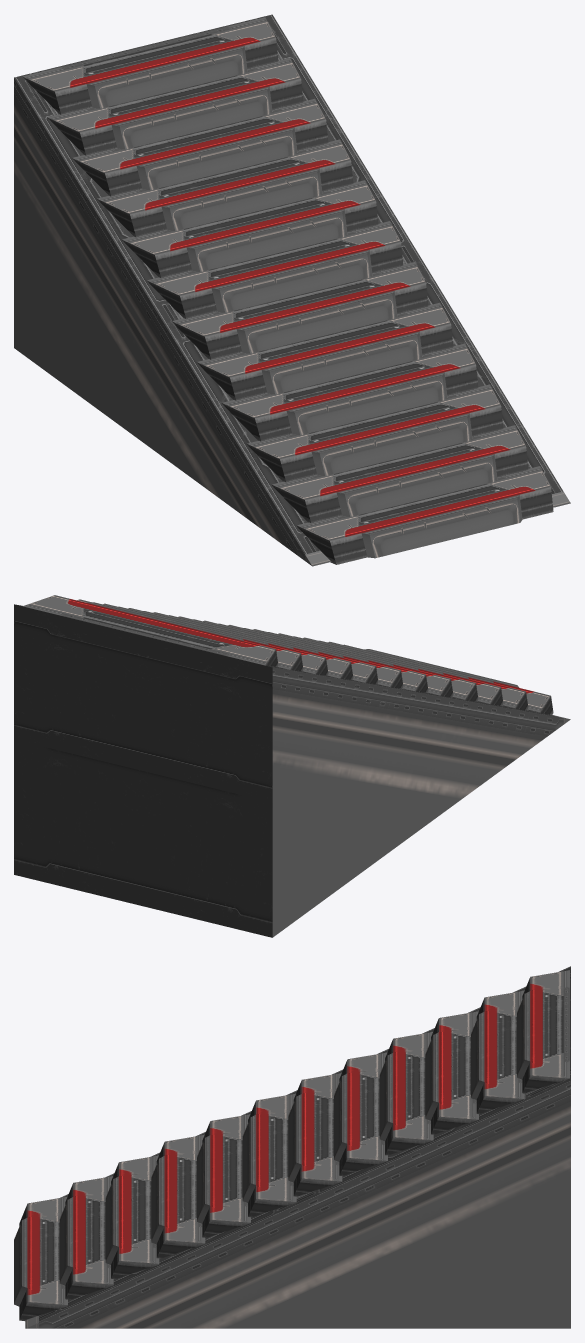
The model's file is Platform_Stairs_4.gltf.
3 views of the same model, one above another, from view 1: azimuth 30°, elevation 25°; view 2: azimuth 150°, elevation 25°; view 3: azimuth 270°, elevation 25° (orthographic). The views are drawn at different scales.
Visible parts, largest first — view 1: Platform_Stairs_4; view 2: Platform_Stairs_4; view 3: Platform_Stairs_4.
Part boxes in pixels (x1,y1,x2,y2): Platform_Stairs_4: (14,14,570,566); Platform_Stairs_4: (14,595,570,937); Platform_Stairs_4: (14,966,570,1328).
Size of the model in its own units: 2 by 2.01 by 4.08.
Materials: 2 (2 with a texture image).
